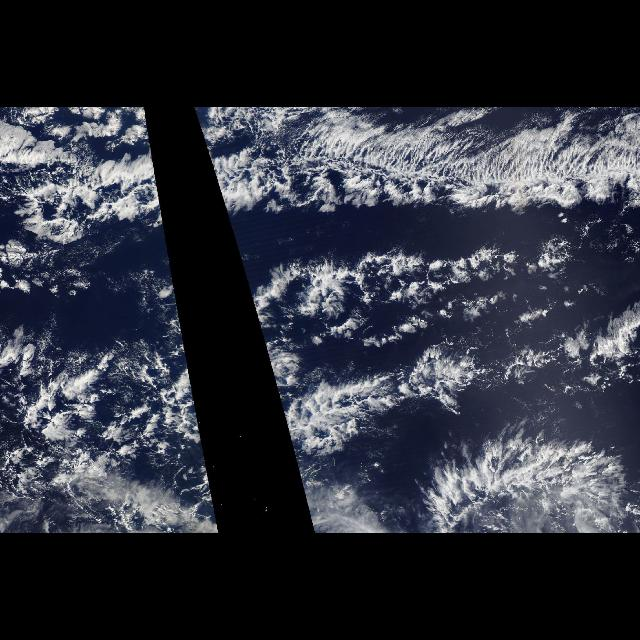Fish: (193, 107, 631, 457), (3, 110, 207, 457)
